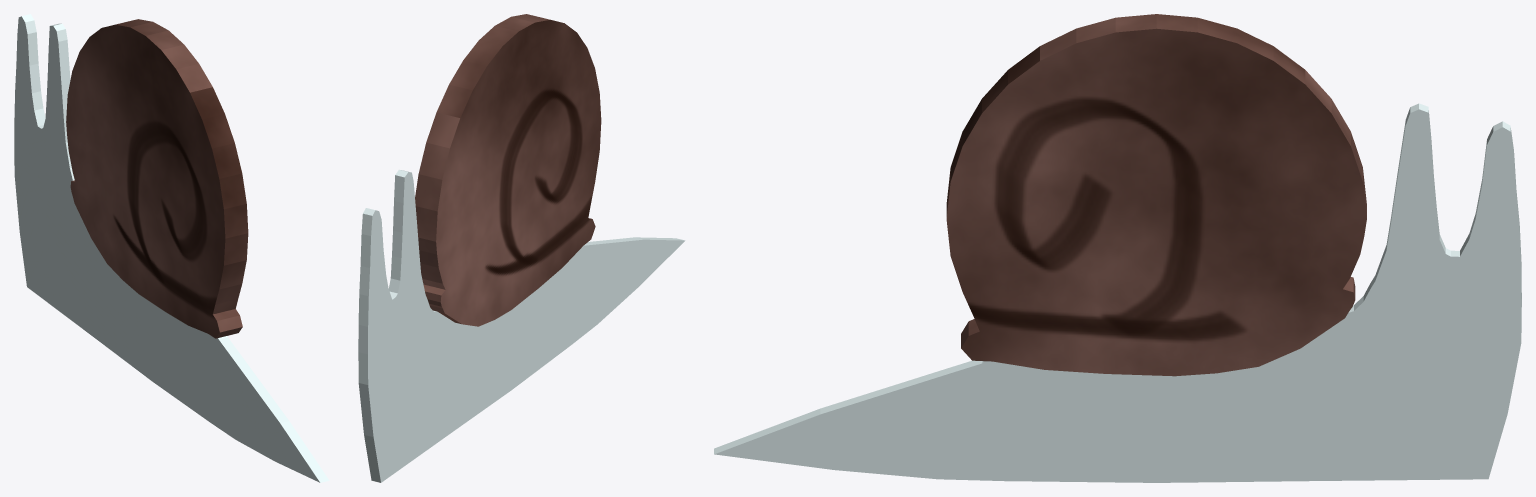
The model's file is snail.glb.
3 renders of one model, left to right at view 1: azimuth 30°, elevation 25°; view 2: azimuth 150°, elevation 25°; view 3: azimuth 270°, elevation 25°, orthographic. The views are drawn at different scales.
Parts seen in each view (by area): view 1: Circle; view 2: Circle; view 3: Circle.
Part boxes in pixels (bbox=[...]): Circle: bbox=[14, 14, 329, 482]; Circle: bbox=[358, 14, 685, 482]; Circle: bbox=[714, 14, 1521, 482].
Bounding box in the file's own units: 0.1502 × 2.17 × 3.47.
1 material, 1 textured.
